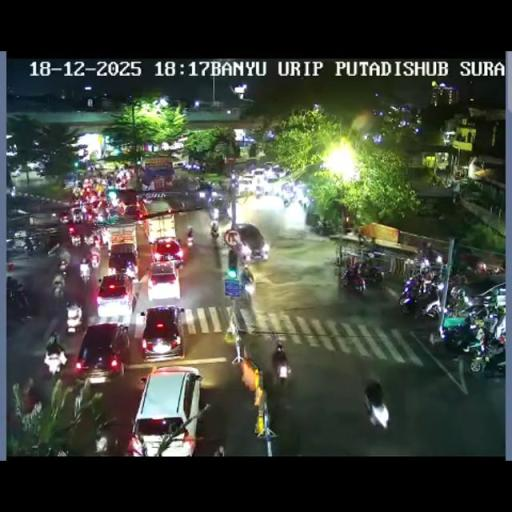Car: (128, 365, 202, 455), (75, 320, 130, 382), (139, 304, 186, 360), (225, 222, 269, 264), (95, 273, 135, 319), (146, 259, 182, 301), (107, 242, 139, 278), (108, 188, 142, 219), (470, 280, 504, 311), (250, 168, 268, 192), (262, 161, 284, 177), (68, 206, 85, 226), (26, 160, 44, 172)
Motorcycle: (398, 270, 444, 316), (438, 312, 482, 358), (476, 338, 506, 378), (363, 381, 389, 427), (91, 418, 121, 454), (42, 344, 68, 377), (447, 286, 470, 316), (358, 260, 384, 286), (488, 306, 506, 340), (40, 437, 70, 456), (274, 354, 290, 386), (65, 300, 82, 330), (450, 269, 472, 290), (361, 247, 387, 264), (210, 201, 230, 223), (14, 286, 30, 312), (313, 218, 336, 236), (26, 236, 46, 254), (414, 255, 431, 276), (6, 275, 20, 300), (78, 262, 92, 284), (88, 247, 101, 270), (52, 278, 65, 300), (403, 255, 416, 275), (486, 260, 504, 274), (57, 256, 69, 274), (70, 228, 80, 246), (244, 278, 254, 296), (230, 175, 239, 194), (298, 192, 308, 209), (209, 189, 222, 202), (475, 260, 487, 274), (95, 210, 106, 224), (6, 236, 16, 251), (84, 232, 94, 246), (357, 232, 367, 246), (282, 182, 292, 196), (210, 224, 219, 238), (282, 194, 292, 206), (93, 234, 101, 248), (186, 232, 194, 246)
